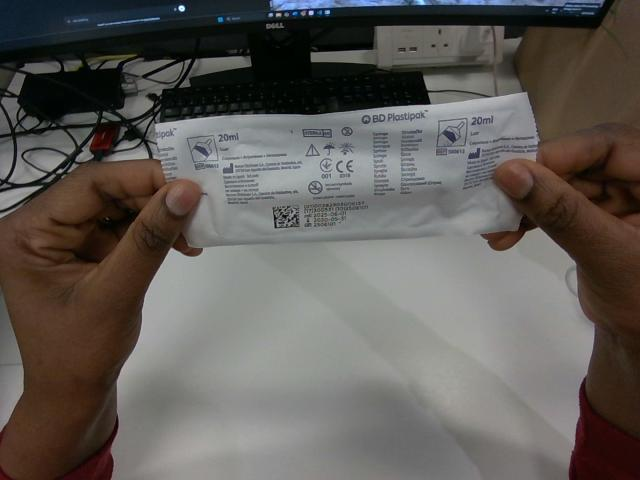syringe: (156, 93, 537, 246)
